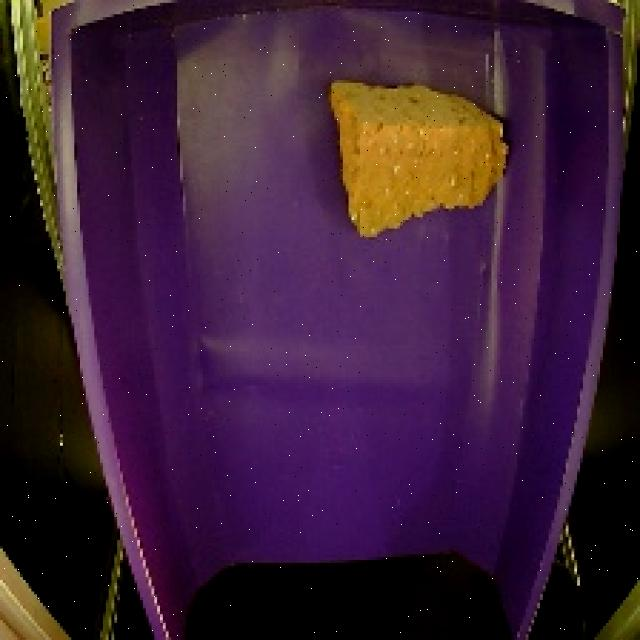brick: (315, 68, 523, 246)
